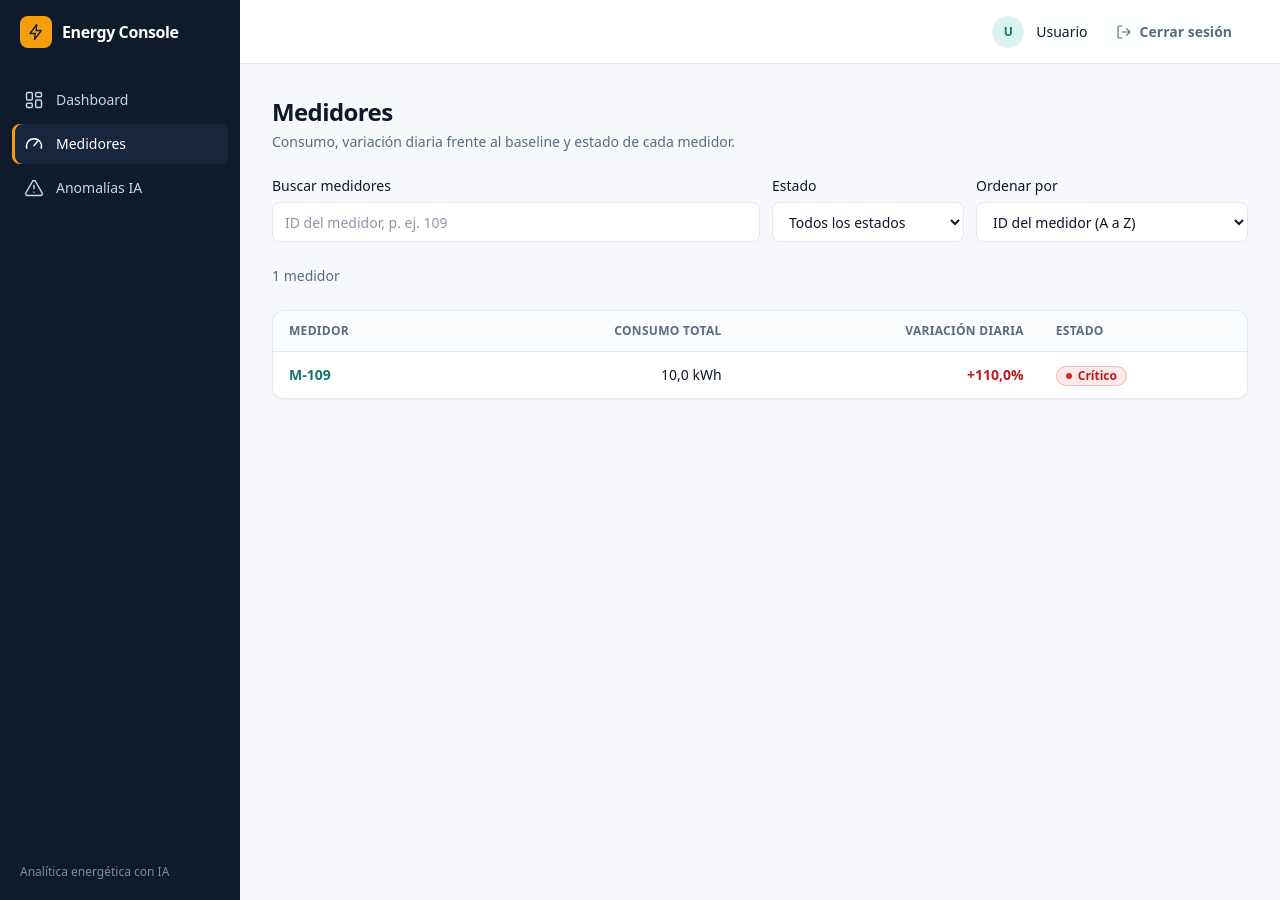
Test: meters routes › opens a meter from its row
Click the link "M-109": coordinates (310, 374) [289,365,331,384]
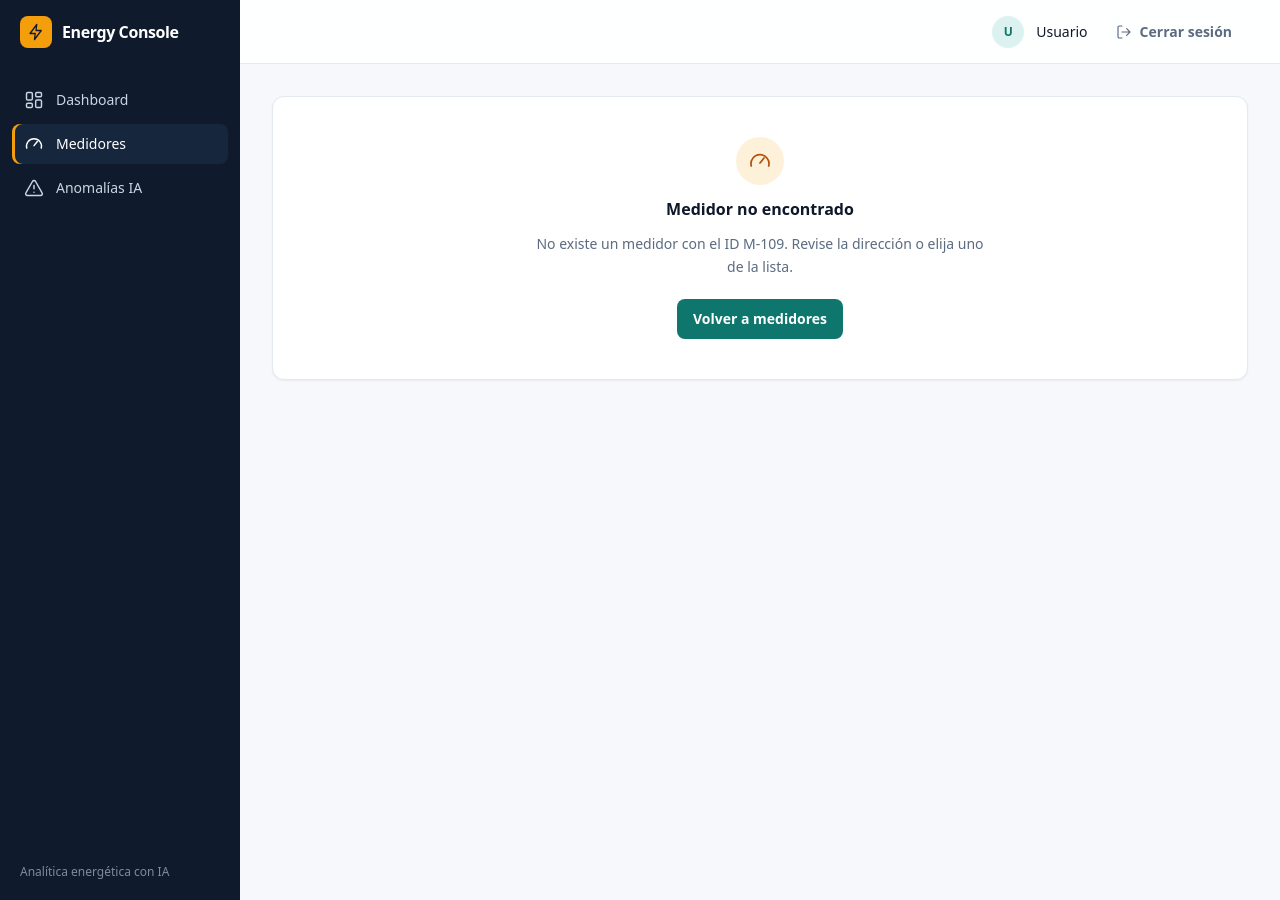
Result: the heading "Medidor no encontrado" is shown at [666,197,854,221]
